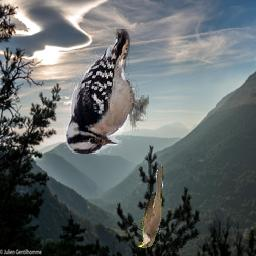Cuckoo: (137, 166, 163, 249)
Woodpecker: (65, 30, 150, 155)
